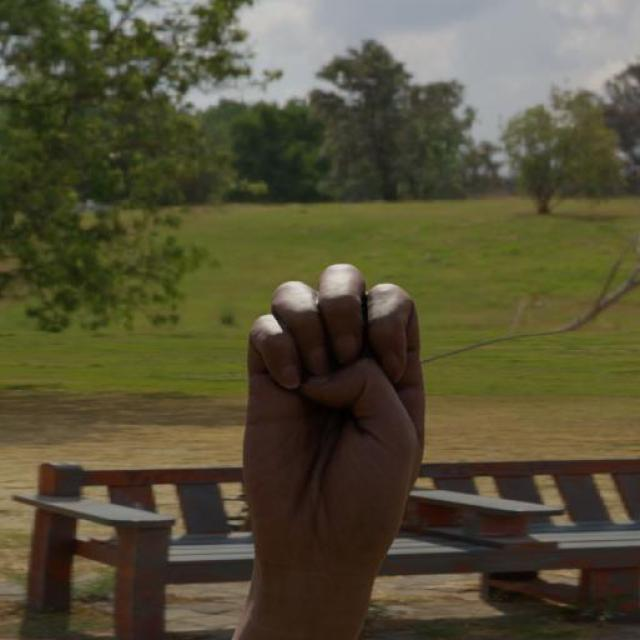E: (236, 261, 430, 574)
